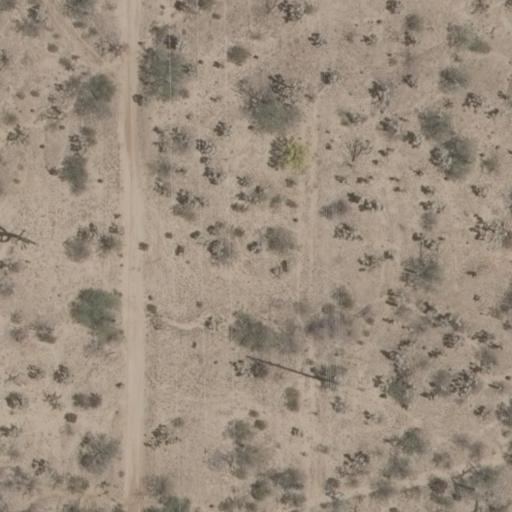DT: (312, 369, 345, 394)
